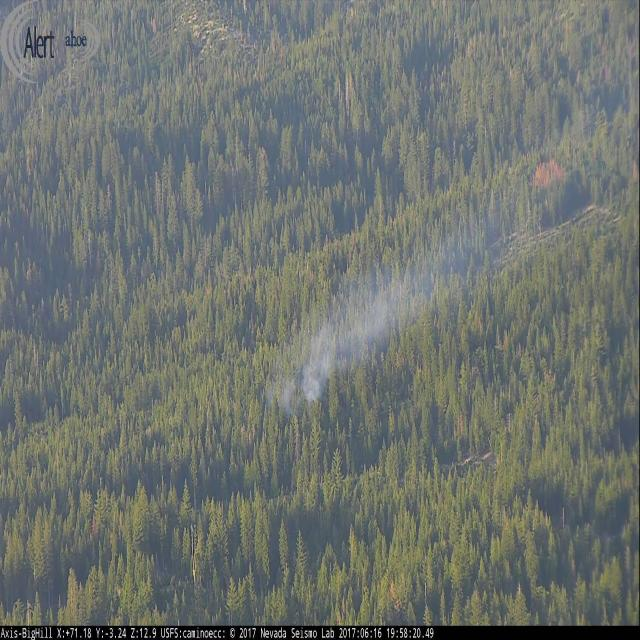smoke: (264, 201, 594, 412)
